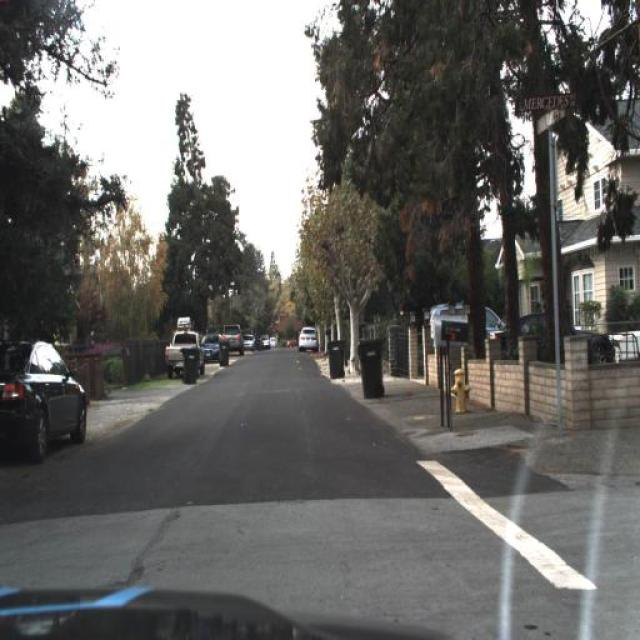car: (470, 297, 624, 378), (0, 333, 91, 462), (388, 292, 473, 348), (153, 322, 203, 389), (198, 328, 224, 370), (296, 318, 322, 357), (199, 329, 226, 366), (222, 324, 246, 360), (241, 328, 258, 352), (266, 331, 278, 349), (260, 335, 270, 349)
